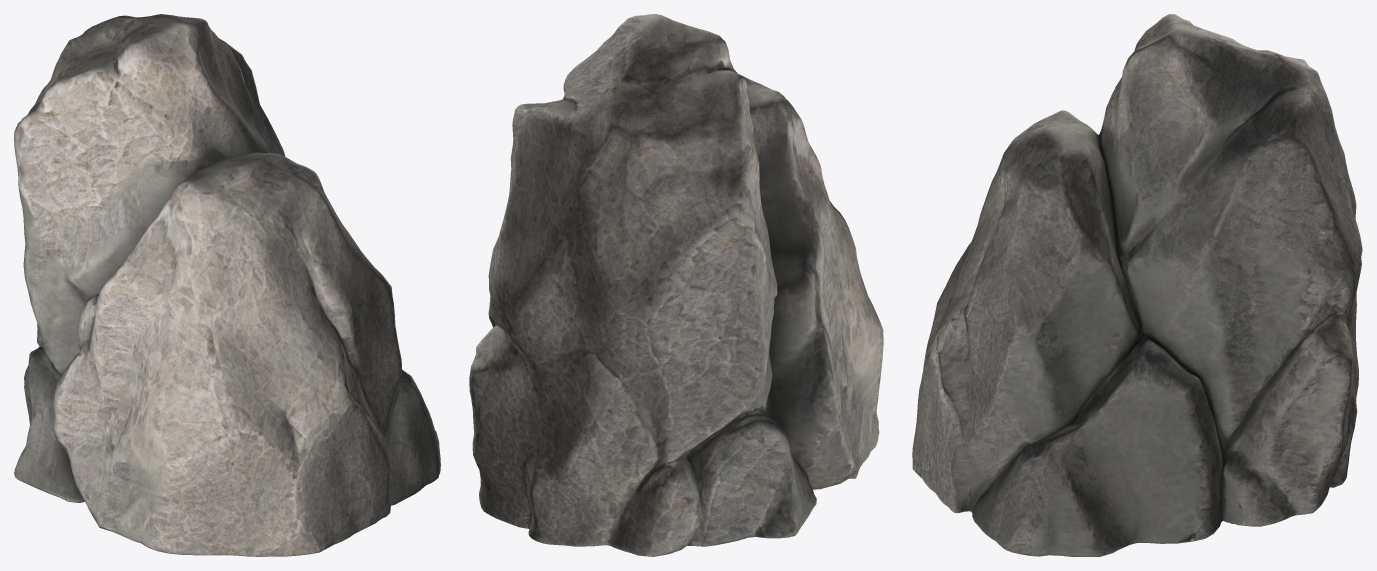
File: Rock3.fbx
The picture shows the model from 3 angles, left to right: view 1: azimuth 30°, elevation 25°; view 2: azimuth 150°, elevation 25°; view 3: azimuth 270°, elevation 25°; orthographic projection. The views are drawn at different scales.
Parts seen in each view (by area): view 1: tripo_node_45d55230; view 2: tripo_node_45d55230; view 3: tripo_node_45d55230.
Part boxes in pixels (x1,y1,x2,y2): tripo_node_45d55230: (14,14,440,556); tripo_node_45d55230: (469,14,883,556); tripo_node_45d55230: (912,14,1362,556).
Bounding box in the file's own units: 80.36 × 93.32 × 100.
